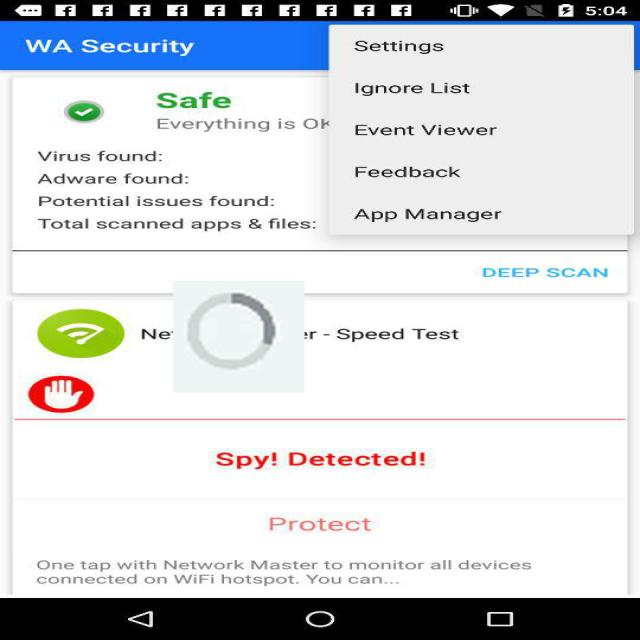misdirection: (173, 280, 305, 392)
